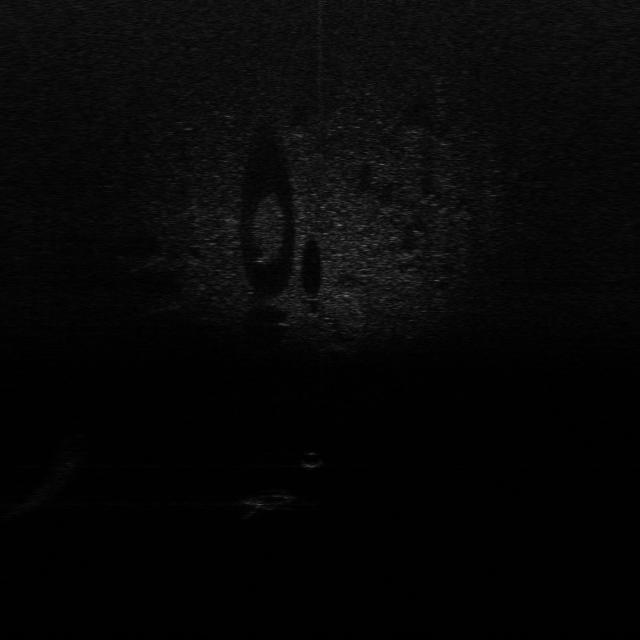ball: (298, 447, 328, 469)
tyre: (236, 484, 298, 520)
